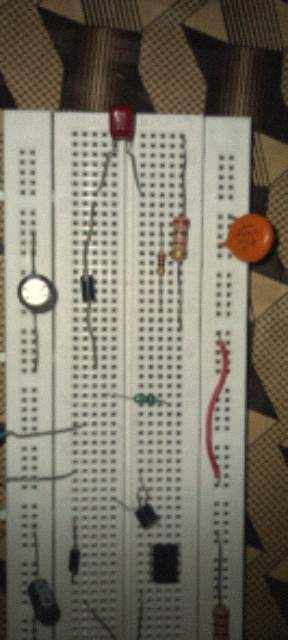capacitor: (219, 209, 274, 267), (23, 576, 62, 628), (14, 273, 55, 316), (106, 104, 138, 150)
resistor: (170, 214, 190, 265), (210, 600, 232, 640), (129, 392, 162, 407), (154, 249, 167, 279)
